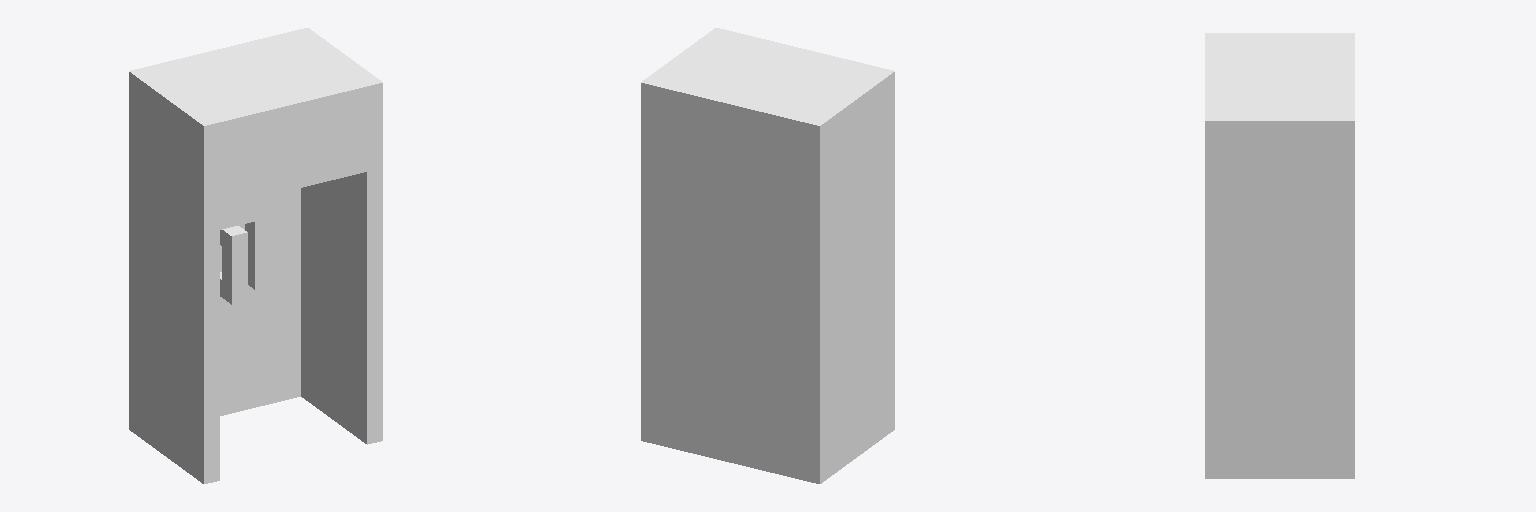
File: PhoneBooth.obj
3 views of the same model, side by side, from view 1: azimuth 30°, elevation 25°; view 2: azimuth 150°, elevation 25°; view 3: azimuth 270°, elevation 25° (orthographic).
Bounding box in the file's own units: 11 × 21 × 8.